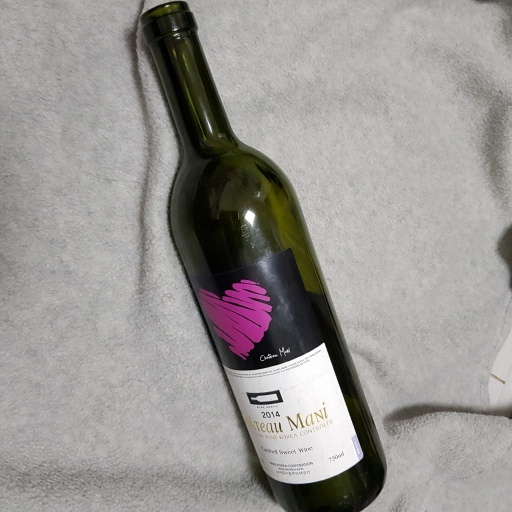Glass_2: (138, 4, 389, 512)
